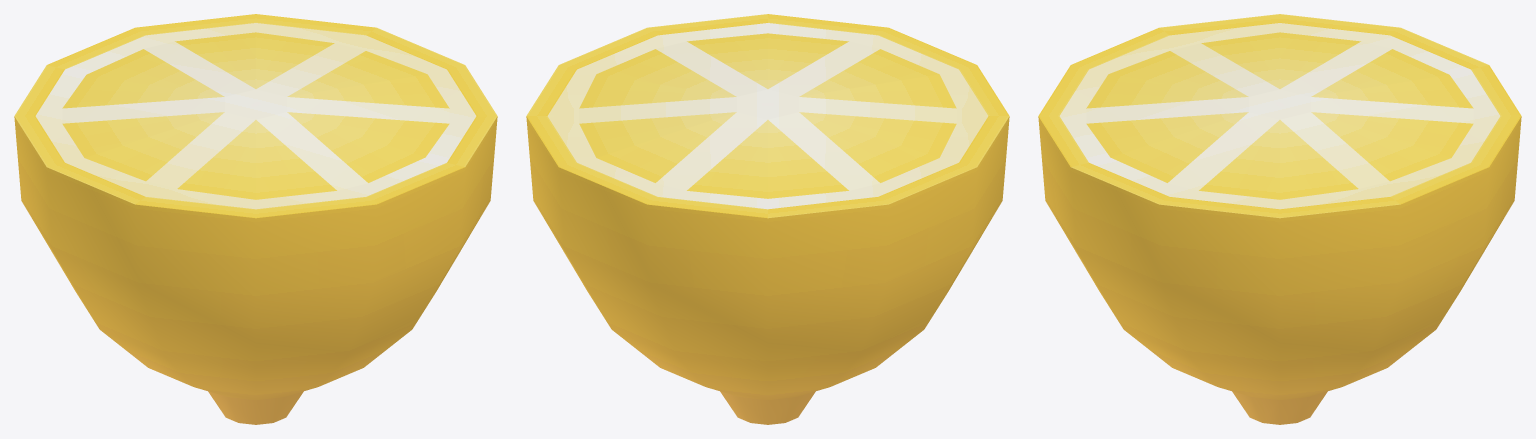
Rendered from lemon_cut.glb.
3 renders of one model, left to right at view 1: azimuth 30°, elevation 25°; view 2: azimuth 150°, elevation 25°; view 3: azimuth 270°, elevation 25°, orthographic.
Visible parts, largest first — view 1: mesh_lemon_cut_01 - Default.001_0; view 2: mesh_lemon_cut_01 - Default.001_0; view 3: mesh_lemon_cut_01 - Default.001_0.
Part boxes in pixels (<box>): mesh_lemon_cut_01 - Default.001_0: <box>14,14,497,424</box>; mesh_lemon_cut_01 - Default.001_0: <box>526,14,1009,424</box>; mesh_lemon_cut_01 - Default.001_0: <box>1038,14,1521,424</box>.
Size of the model in its own units: 115 by 82.98 by 115.
Materials: 1 (1 with a texture image).
